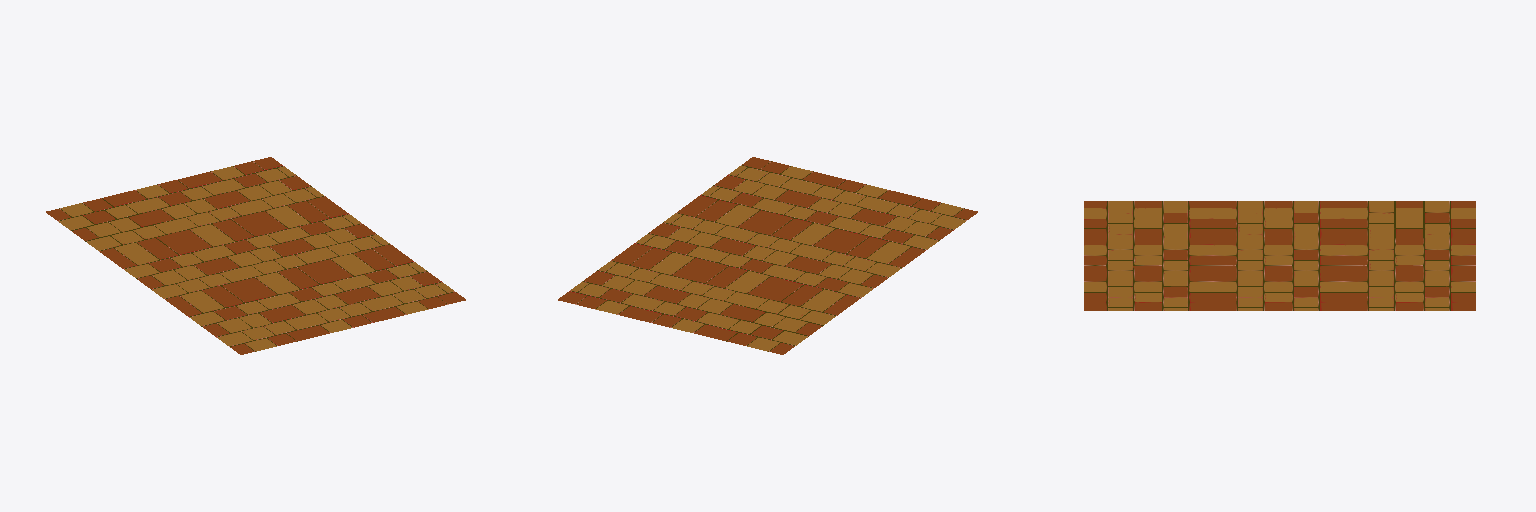
The picture shows the model from 3 angles: view 1: azimuth 30°, elevation 25°; view 2: azimuth 150°, elevation 25°; view 3: azimuth 270°, elevation 25°; orthographic projection.
Visible parts, largest first — view 1: 平面; view 2: 平面; view 3: 平面.
Part boxes in pixels (bbox=[...]): 平面: bbox=[46, 157, 465, 354]; 平面: bbox=[558, 157, 977, 354]; 平面: bbox=[1084, 201, 1475, 310].
Size of the model in its own units: 200 by 0 by 300.
Materials: 1 (1 with a texture image).